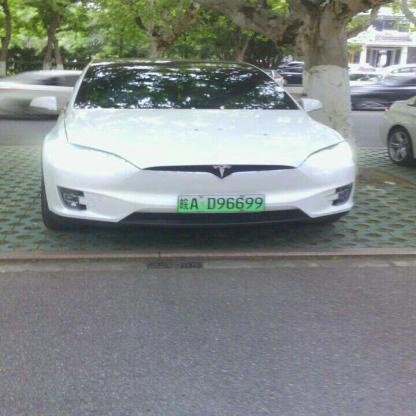lp: (178, 192, 266, 214)
